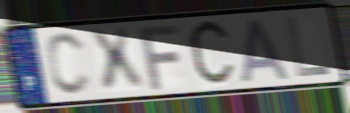A: (240, 17, 294, 85)
C: (186, 16, 238, 92), (44, 30, 95, 99)
F: (137, 23, 183, 92)
L: (284, 16, 332, 79)
X: (85, 25, 148, 97)
